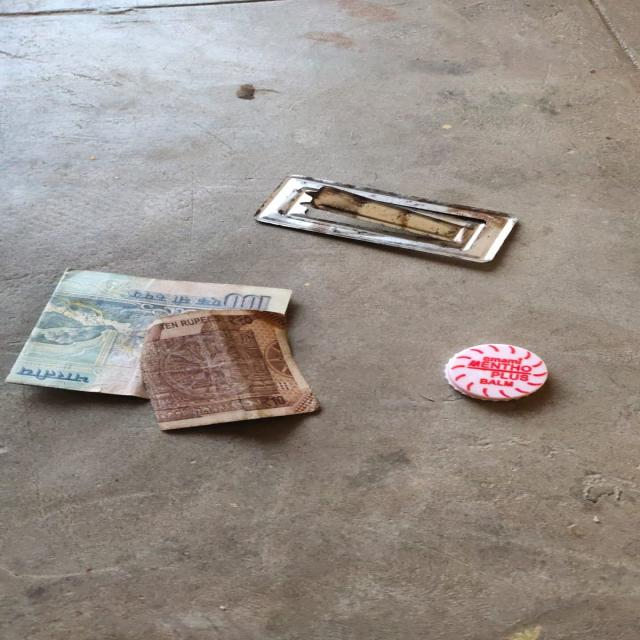dry: (4, 262, 338, 460), (252, 154, 579, 263), (413, 339, 603, 415)
